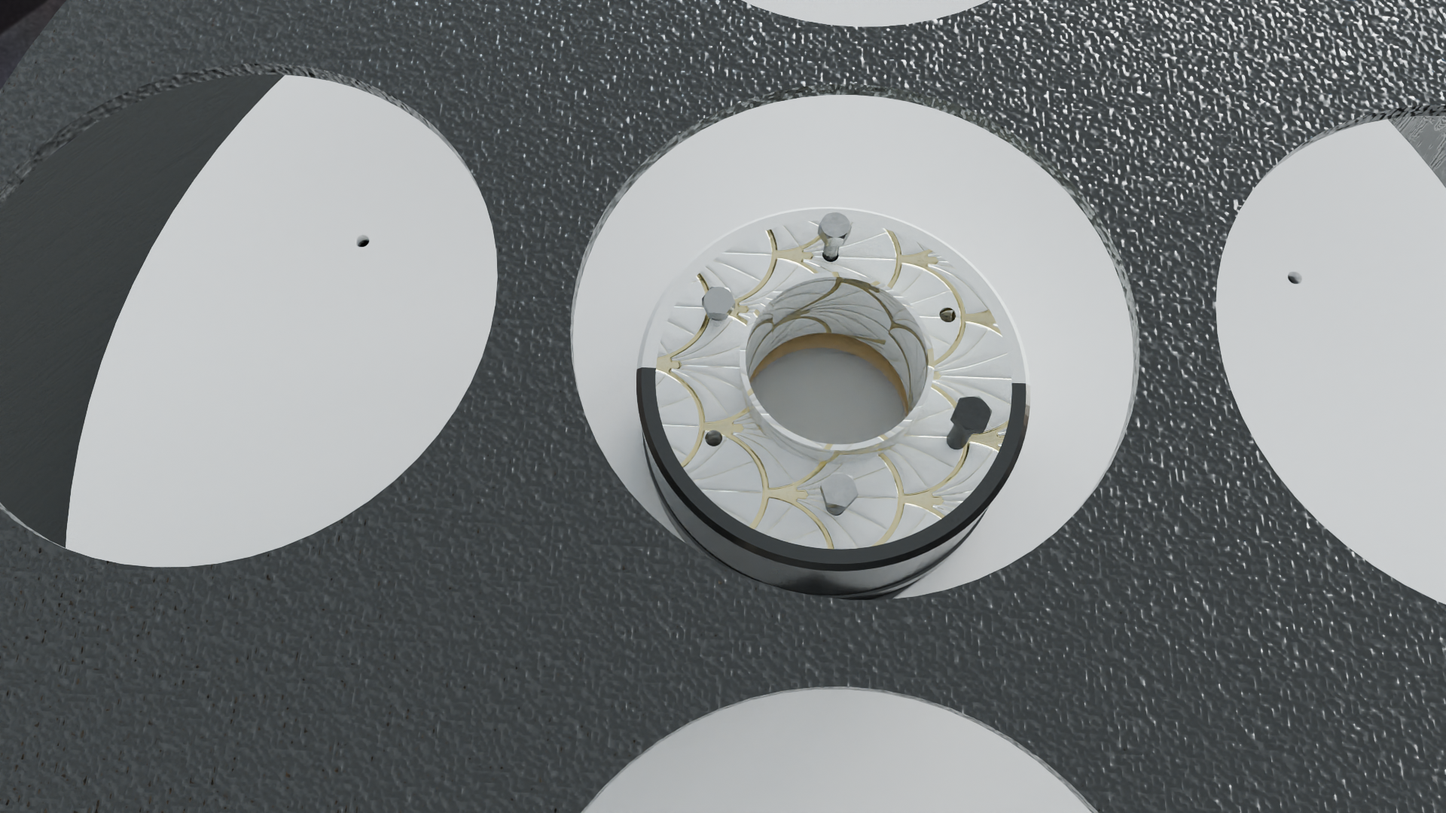bolt: (953, 396, 993, 430), (821, 472, 859, 507), (702, 287, 736, 315), (819, 212, 852, 239)
